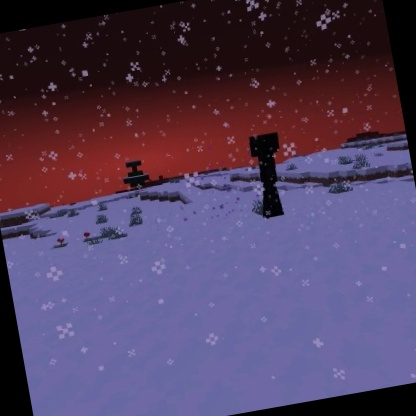enderman: (245, 130, 294, 222)
